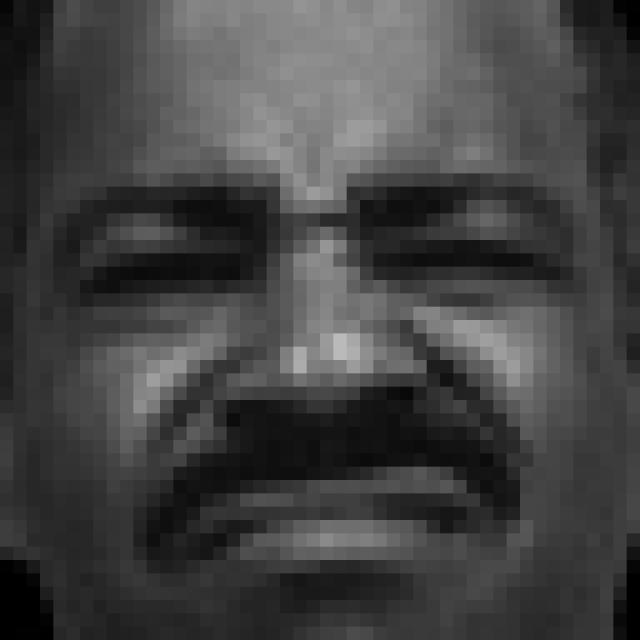disgust: (36, 144, 594, 588)
